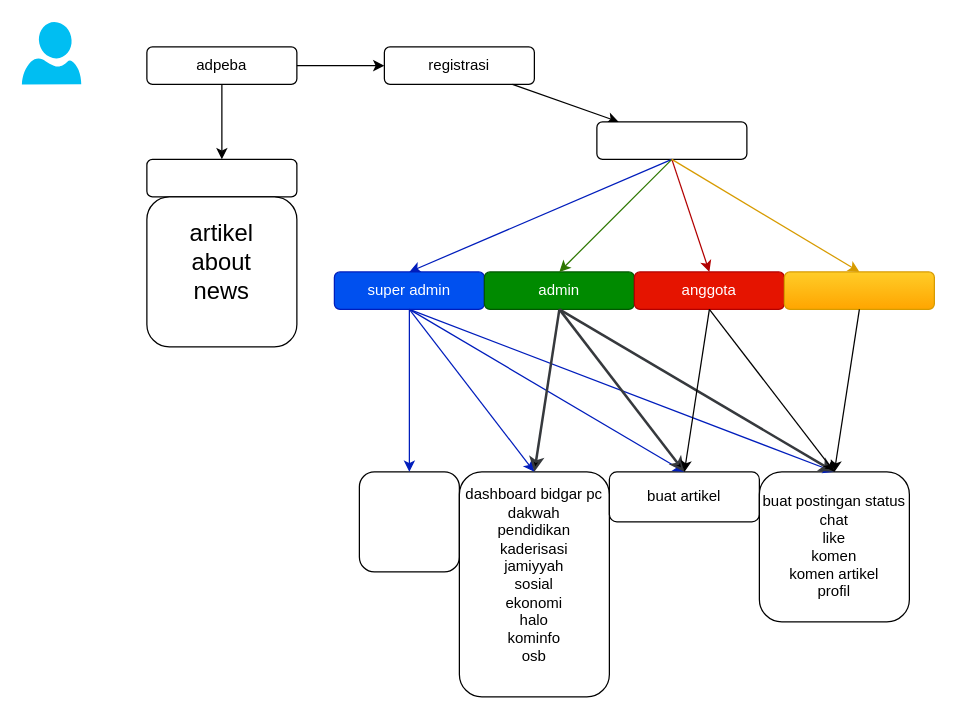
This 956x719 diagram has some shape labels left out. The shapes that lost their labels are listed below. From the top down, each one's centre as x and y in pixels, then its label:
the point at 671,140: login
the point at 221,177: guest
the point at 858,290: simpatisan, remaja, dll
the point at 408,521: menambah dan menghapus admin
